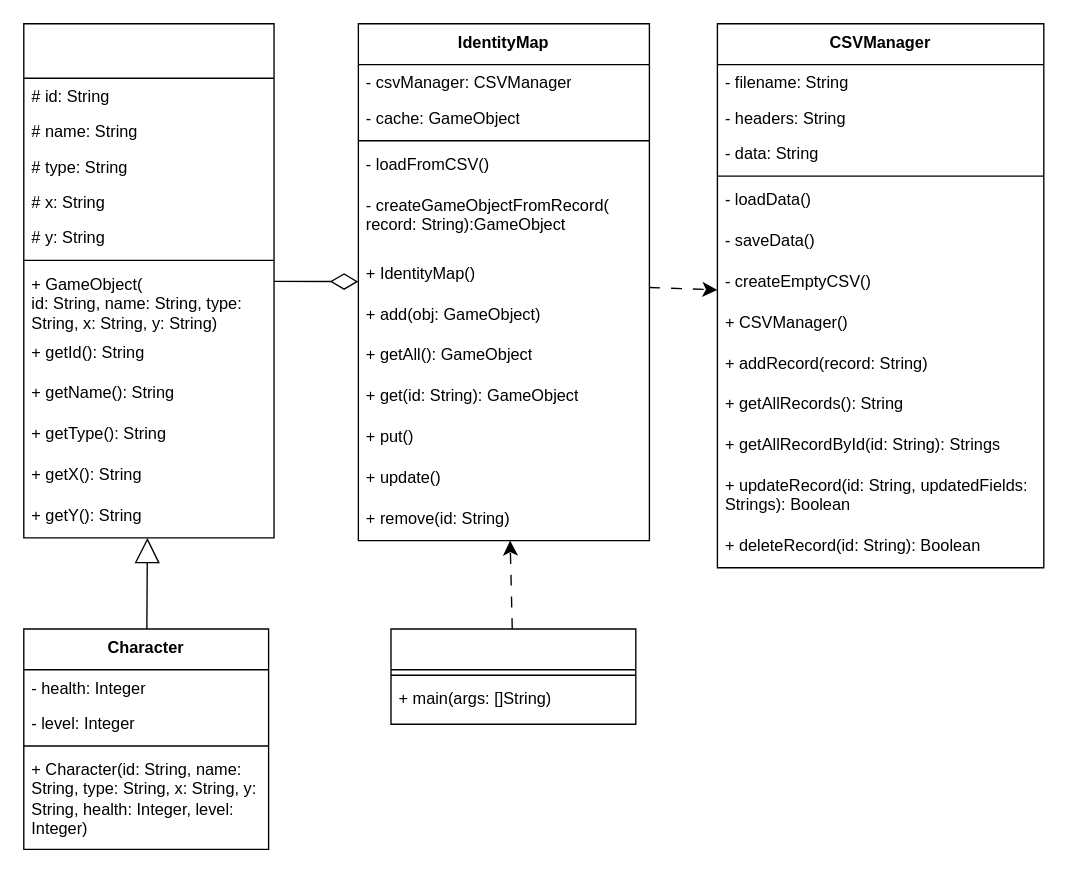
Image size: 1068x877. Some labels were removed from this diagram. Each missing label, with the box of its shape:
<<abstract>> GameObject: (22, 22, 274, 538)
RunPattern1: (390, 628, 636, 724)
